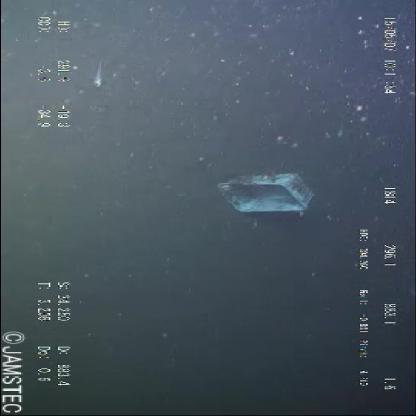Rác: (211, 166, 325, 218)
